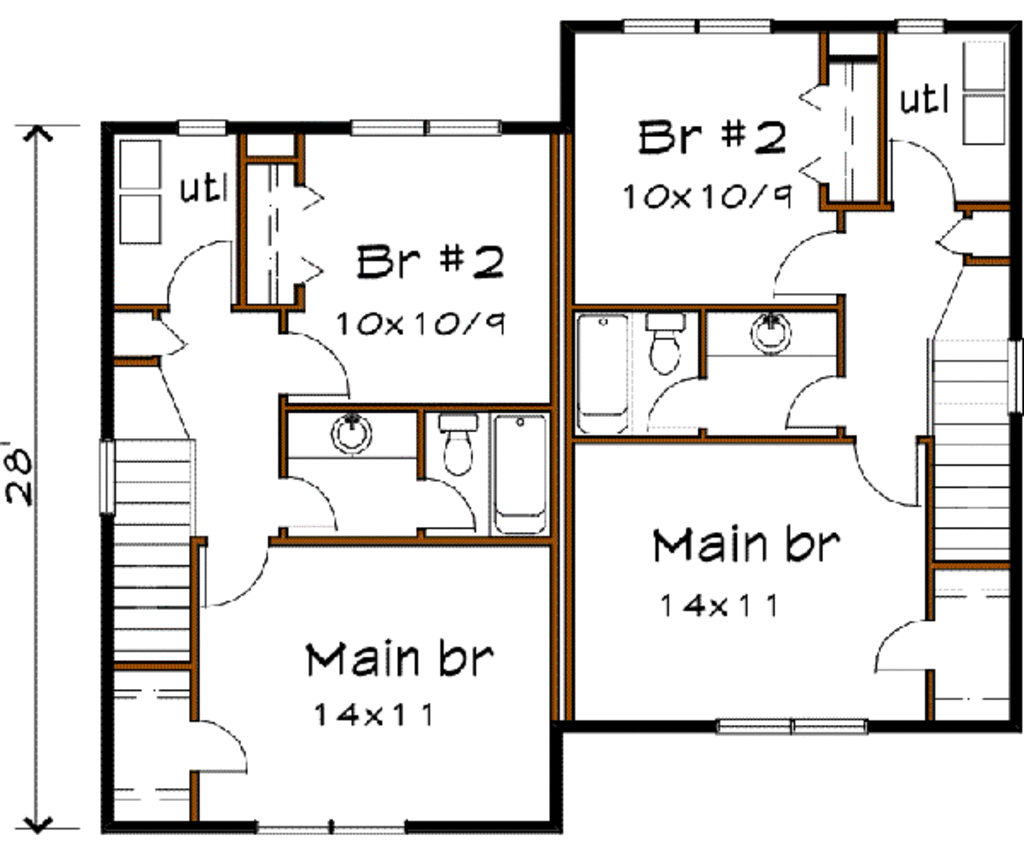door: (844, 425, 924, 522), (161, 237, 247, 316), (194, 530, 278, 610), (884, 135, 963, 212), (277, 324, 359, 392), (185, 708, 260, 774), (276, 462, 340, 538), (413, 475, 484, 541), (641, 368, 709, 434), (865, 609, 936, 672), (772, 234, 841, 295), (784, 370, 845, 428), (934, 207, 982, 254), (159, 312, 188, 354)
large_sink: (638, 308, 693, 376), (431, 407, 481, 471)
small_sink: (284, 403, 427, 466), (702, 310, 834, 355)
stairs: (109, 433, 199, 828), (932, 329, 1015, 559)
tub: (478, 409, 553, 537), (577, 307, 632, 434)
window: (620, 4, 784, 38), (349, 113, 499, 143), (718, 713, 876, 741), (93, 438, 127, 522), (255, 820, 406, 835), (170, 116, 238, 139), (895, 13, 945, 35), (1009, 339, 1024, 408)
